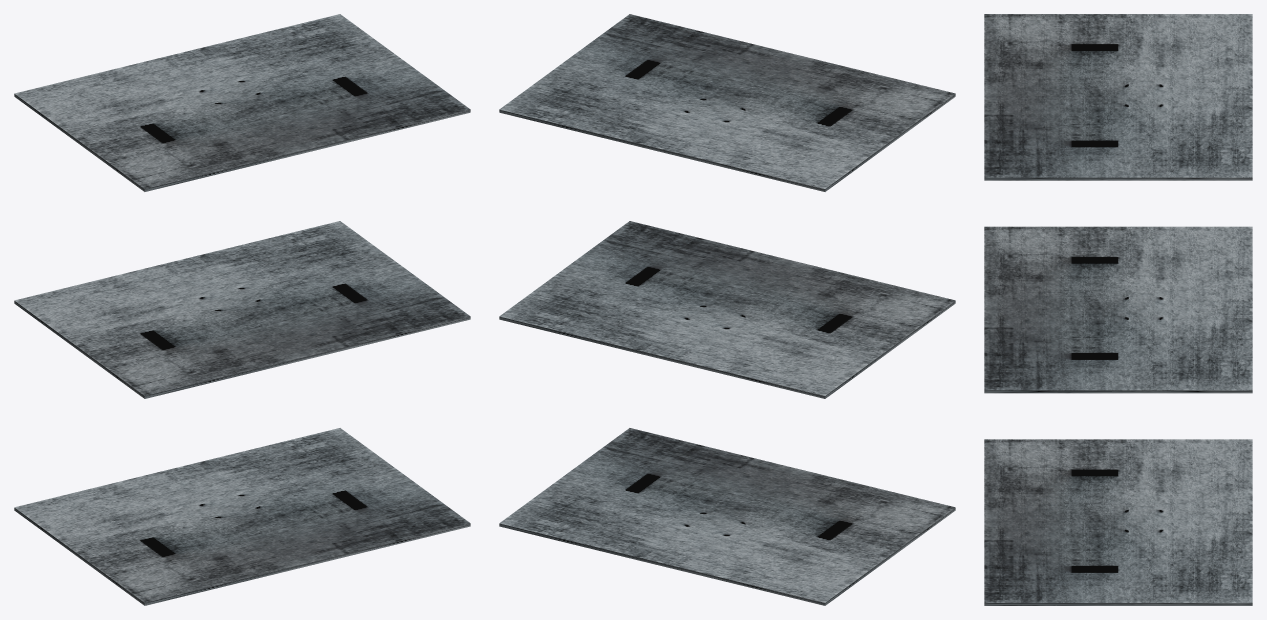
The model's file is store_90.obj.
3 views of the same model, side by side, from view 1: azimuth 30°, elevation 25°; view 2: azimuth 150°, elevation 25°; view 3: azimuth 270°, elevation 25° (orthographic). The views are drawn at different scales.
Size of the model in its own units: 27.88 by 34.07 by 19.35.
